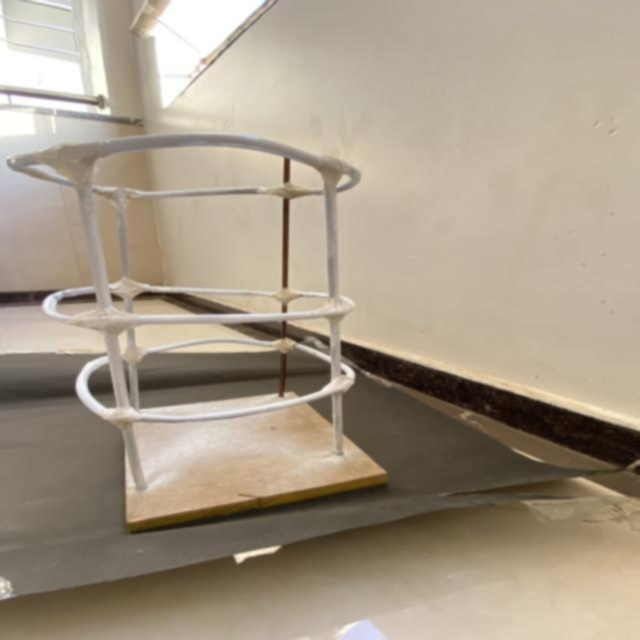silo: (20, 126, 399, 519)
